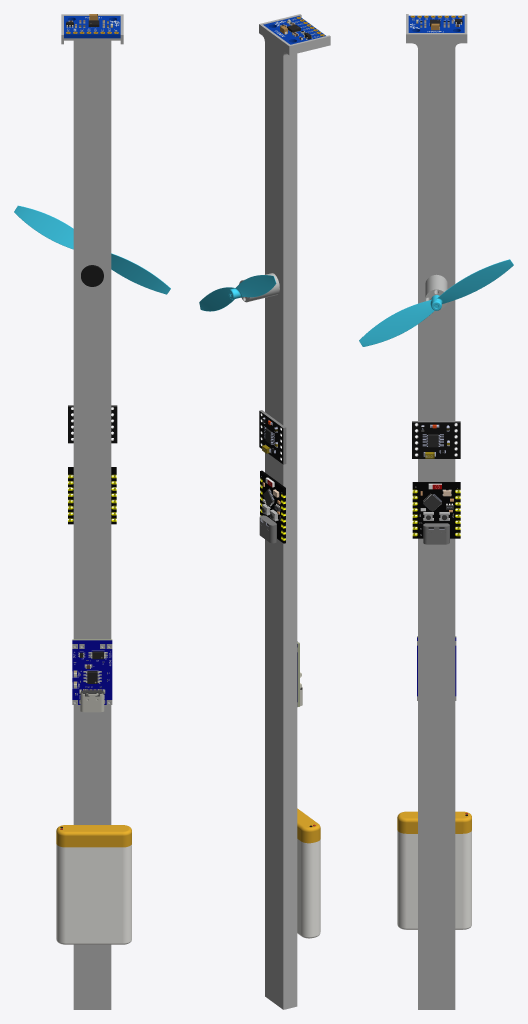
3 renders of one model, left to right at view 1: azimuth 90°, elevation 25°; view 2: azimuth 210°, elevation 25°; view 3: azimuth 270°, elevation 25°, orthographic. The views are drawn at different scales.
Parts seen in each view (by area): view 1: Solid1, Solid1:1, Solid1:2, Solid1:7, Srf1, Solid2, Solid1:8, Solid2:1, Solid1:3, Solid2:3; view 2: Solid1:1, Solid1, Solid1:2, Solid1:7, Solid2:1, Solid1:3, Solid1:8, Solid2, Solid1:4; view 3: Solid1:1, Solid1, Solid1:2, Solid1:7, Solid2:1, Solid1:3, Solid2, Solid1:8, Solid1:4, Solid1:6.
Boxes of the visible parts, box(x1,y1,x2,y2) form: Solid1: box(61, 14, 123, 520); Solid1:1: box(73, 520, 111, 1009); Solid1:2: box(56, 844, 131, 944); Solid1:7: box(14, 205, 170, 294); Srf1: box(72, 640, 112, 704); Solid2: box(56, 825, 131, 847); Solid1:8: box(64, 16, 120, 38); Solid2:1: box(68, 467, 116, 524); Solid1:3: box(68, 405, 117, 443); Solid2:3: box(81, 265, 103, 286); Solid1:1: box(265, 527, 297, 1009); Solid1: box(259, 14, 330, 529); Solid1:2: box(297, 839, 320, 938); Solid1:7: box(199, 275, 276, 311); Solid2:1: box(260, 470, 285, 543); Solid1:3: box(259, 410, 286, 464); Solid1:8: box(263, 16, 325, 44); Solid2: box(297, 808, 320, 843); Solid1:4: box(259, 515, 276, 543); Solid1:1: box(418, 538, 455, 1009); Solid1: box(406, 14, 467, 481); Solid1:2: box(397, 830, 471, 929); Solid1:7: box(359, 259, 513, 346); Solid2:1: box(412, 482, 460, 538); Solid1:3: box(412, 421, 460, 458); Solid2: box(397, 811, 471, 833); Solid1:8: box(408, 15, 464, 32); Solid1:4: box(423, 523, 449, 544); Solid1:6: box(425, 274, 447, 308).
Bounding box in the file's own units: 3.7 × 40.56 × 5.81.
